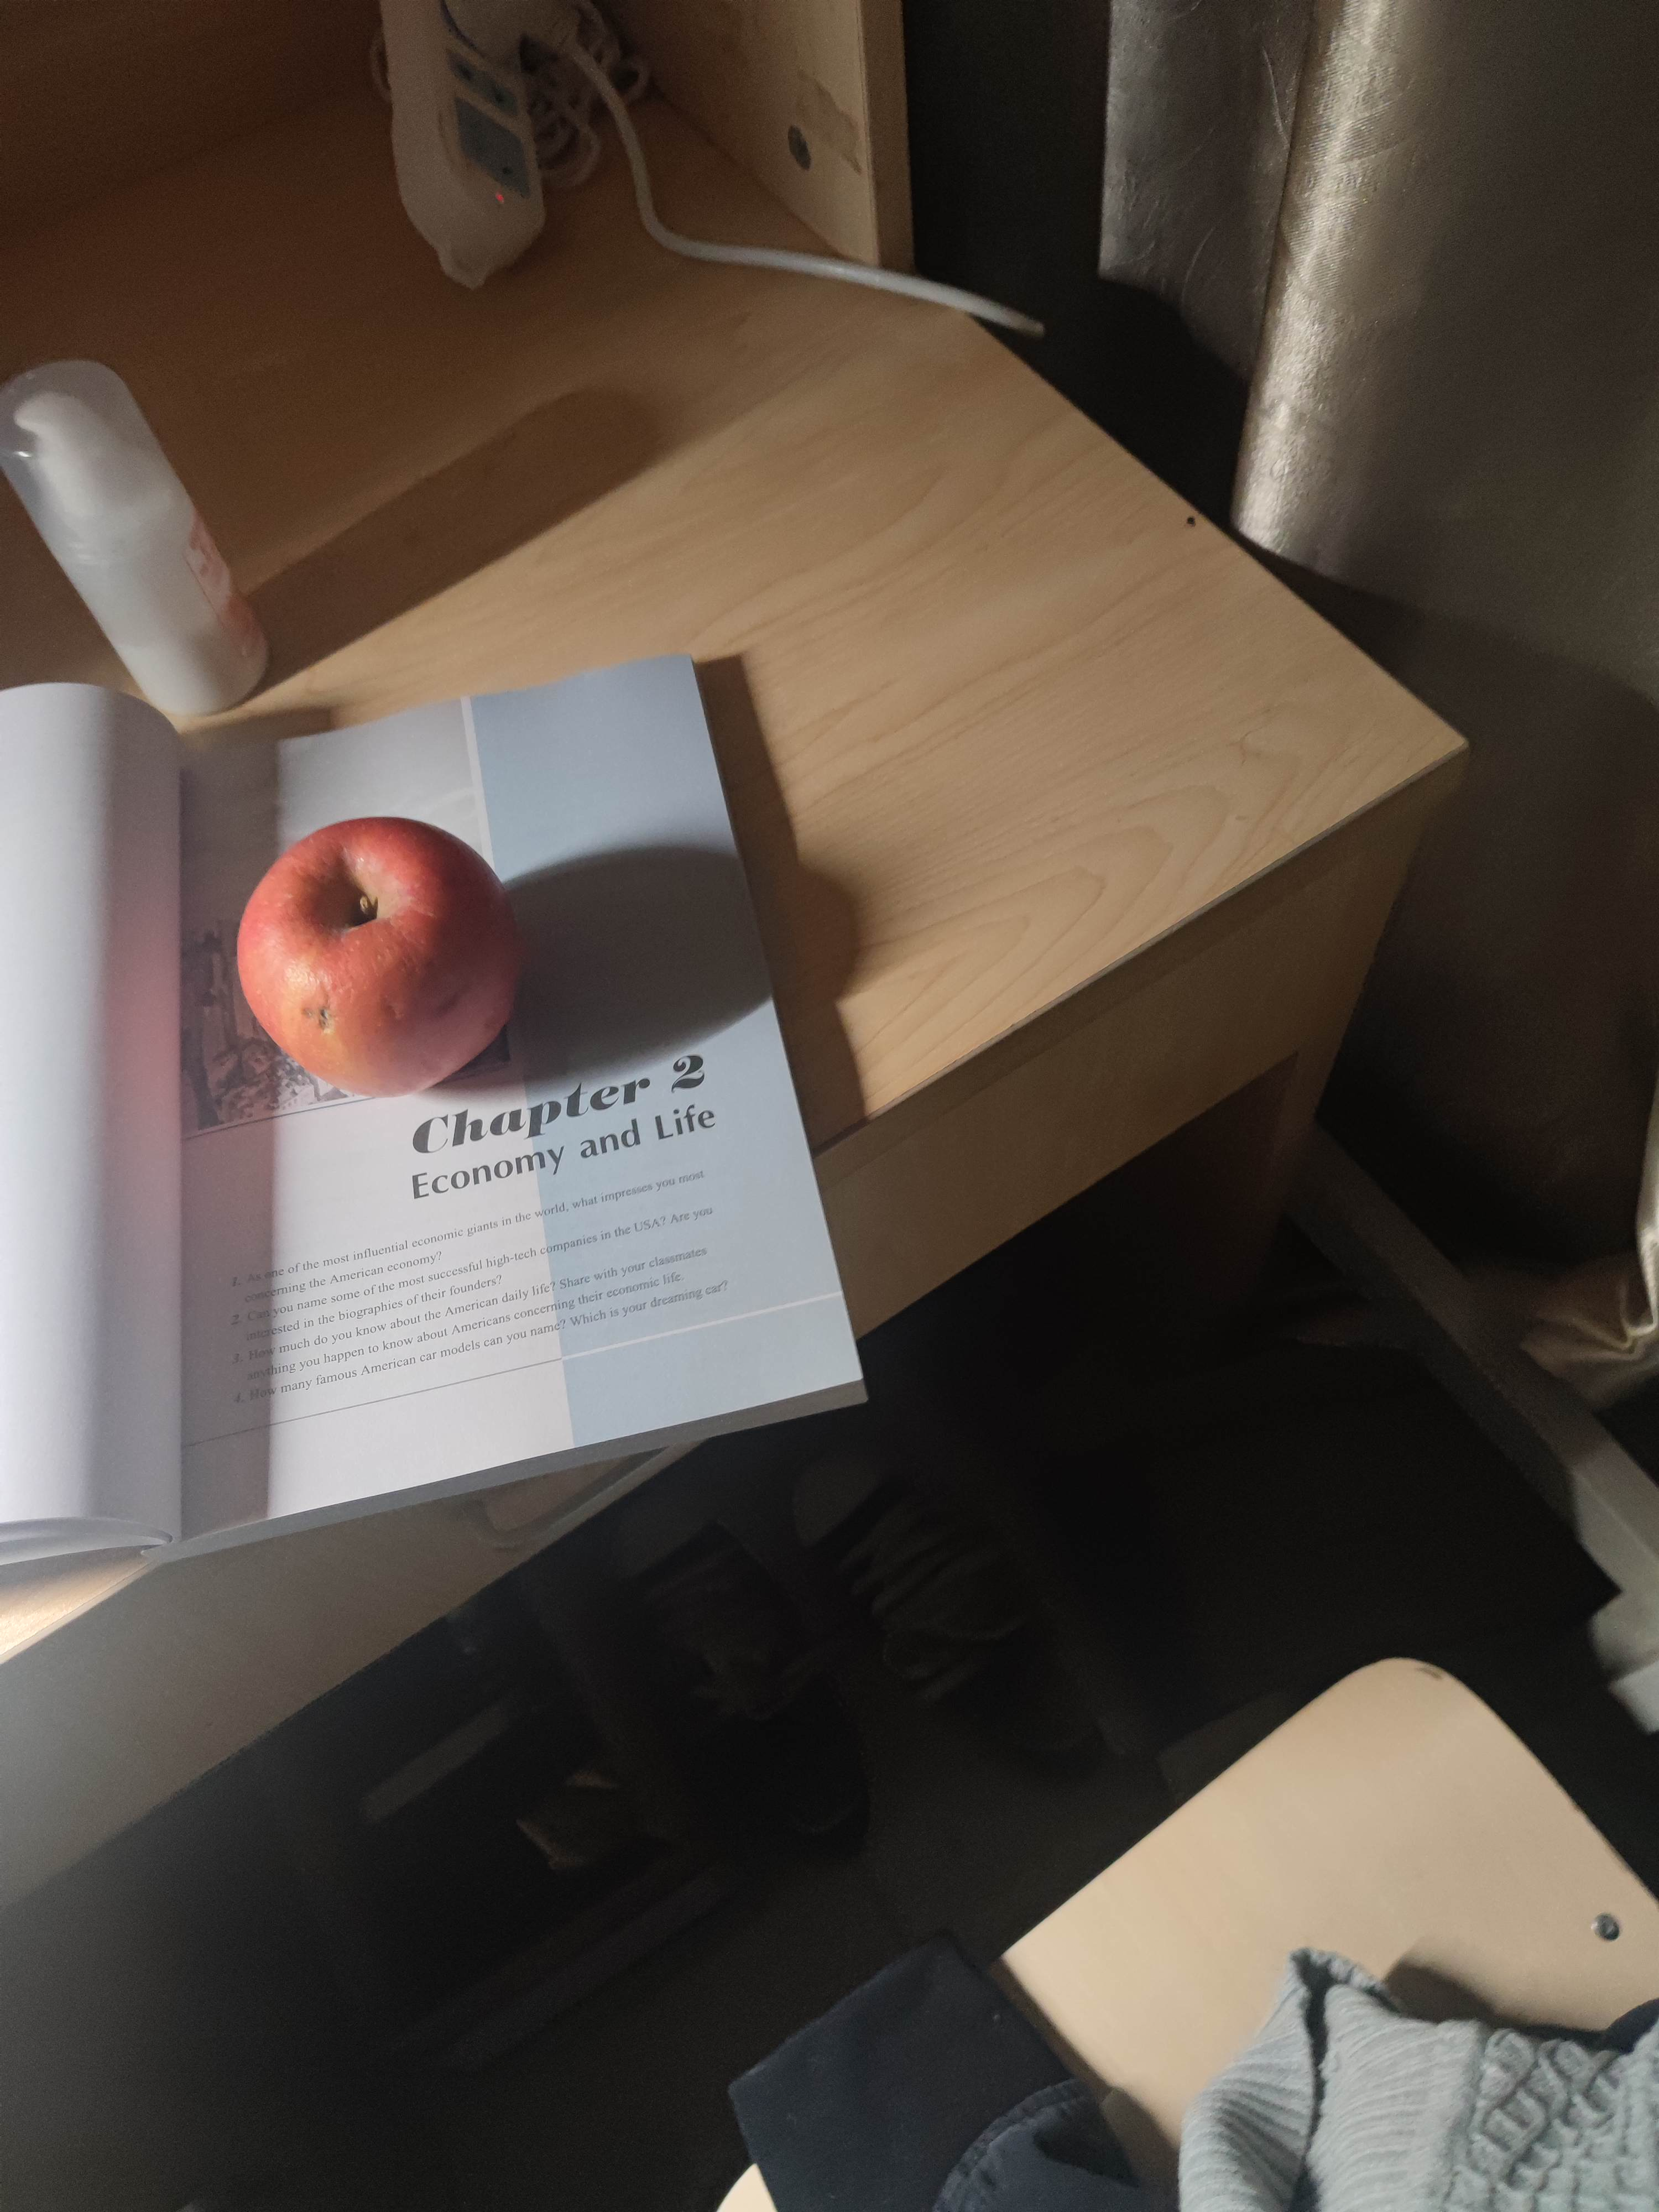apple: (237, 817, 523, 1094)
